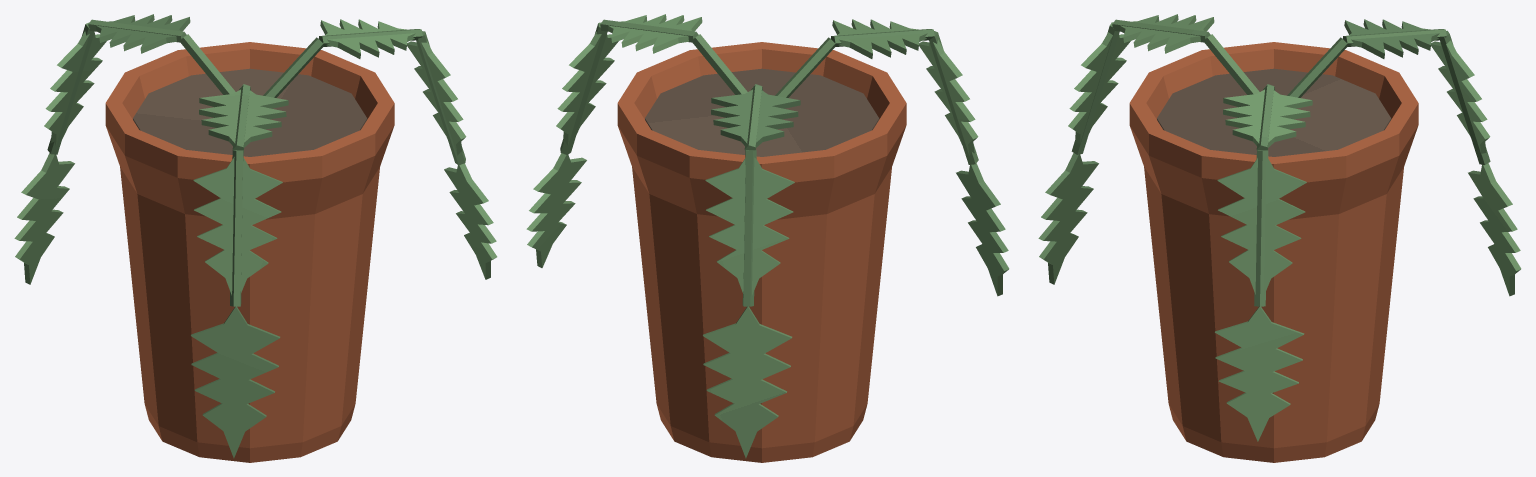
Rendered from new-anguliger.glb.
The picture shows the model from 3 angles, left to right: view 1: azimuth 30°, elevation 25°; view 2: azimuth 150°, elevation 25°; view 3: azimuth 270°, elevation 25°; orthographic projection.
Visible parts, largest first — view 1: new-anguliger/review-terra-vessel, new-anguliger/review-rooted-soil, new-anguliger/flattened-stem-segment-005, new-anguliger/flattened-stem-segment-003, new-anguliger/flattened-stem-segment-017, new-anguliger/flattened-stem-segment-001, new-anguliger/flattened-stem-segment-015, new-anguliger/flattened-stem-segment-011, new-anguliger/flattened-stem-segment-009, new-anguliger/flattened-stem-segment-007, new-anguliger/flattened-stem-segment-013, new-anguliger/petiole-006 (+7 smaller); view 2: new-anguliger/review-terra-vessel, new-anguliger/review-rooted-soil, new-anguliger/flattened-stem-segment-017, new-anguliger/flattened-stem-segment-015, new-anguliger/flattened-stem-segment-011, new-anguliger/flattened-stem-segment-013, new-anguliger/flattened-stem-segment-005, new-anguliger/flattened-stem-segment-009, new-anguliger/flattened-stem-segment-003, new-anguliger/flattened-stem-segment-001, new-anguliger/flattened-stem-segment-007, new-anguliger/petiole-018 (+7 smaller); view 3: new-anguliger/review-terra-vessel, new-anguliger/review-rooted-soil, new-anguliger/flattened-stem-segment-011, new-anguliger/flattened-stem-segment-009, new-anguliger/flattened-stem-segment-005, new-anguliger/flattened-stem-segment-007, new-anguliger/flattened-stem-segment-017, new-anguliger/flattened-stem-segment-003, new-anguliger/flattened-stem-segment-015, new-anguliger/flattened-stem-segment-013, new-anguliger/flattened-stem-segment-001, new-anguliger/petiole-012 (+7 smaller).
Part boxes in pixels (x1,y1,x2,y2): new-anguliger/review-terra-vessel: (105, 42, 394, 462); new-anguliger/review-rooted-soil: (133, 68, 367, 156); new-anguliger/flattened-stem-segment-005: (191, 306, 280, 458); new-anguliger/flattened-stem-segment-003: (193, 157, 282, 295); new-anguliger/flattened-stem-segment-017: (14, 153, 74, 284); new-anguliger/flattened-stem-segment-001: (199, 89, 288, 147); new-anguliger/flattened-stem-segment-015: (44, 31, 106, 145); new-anguliger/flattened-stem-segment-011: (444, 163, 497, 279); new-anguliger/flattened-stem-segment-009: (407, 41, 466, 155); new-anguliger/flattened-stem-segment-007: (320, 19, 415, 58); new-anguliger/flattened-stem-segment-013: (96, 14, 190, 53); new-anguliger/petiole-006: (230, 150, 243, 306); new-anguliger/review-terra-vessel: (617, 42, 906, 462); new-anguliger/review-rooted-soil: (645, 68, 879, 156); new-anguliger/flattened-stem-segment-017: (703, 306, 792, 458); new-anguliger/flattened-stem-segment-015: (705, 157, 794, 295); new-anguliger/flattened-stem-segment-011: (526, 153, 586, 267); new-anguliger/flattened-stem-segment-013: (711, 89, 800, 147); new-anguliger/flattened-stem-segment-005: (956, 163, 1009, 296); new-anguliger/flattened-stem-segment-009: (556, 31, 618, 145); new-anguliger/flattened-stem-segment-003: (919, 39, 978, 155); new-anguliger/flattened-stem-segment-001: (832, 19, 927, 58); new-anguliger/flattened-stem-segment-007: (608, 14, 702, 53); new-anguliger/petiole-018: (742, 150, 756, 306); new-anguliger/review-terra-vessel: (1129, 42, 1418, 462); new-anguliger/review-rooted-soil: (1157, 68, 1391, 156); new-anguliger/flattened-stem-segment-011: (1215, 306, 1304, 441); new-anguliger/flattened-stem-segment-009: (1217, 157, 1306, 295); new-anguliger/flattened-stem-segment-005: (1038, 153, 1098, 284); new-anguliger/flattened-stem-segment-007: (1223, 89, 1312, 147); new-anguliger/flattened-stem-segment-017: (1468, 163, 1521, 296); new-anguliger/flattened-stem-segment-003: (1068, 32, 1130, 143); new-anguliger/flattened-stem-segment-015: (1431, 40, 1490, 153); new-anguliger/flattened-stem-segment-013: (1344, 19, 1439, 58); new-anguliger/flattened-stem-segment-001: (1120, 14, 1214, 53); new-anguliger/petiole-012: (1254, 150, 1268, 306).
Size of the model in its own units: 0.2915 by 0.2678 by 0.3175.
Materials: 3 (3 with a texture image).
